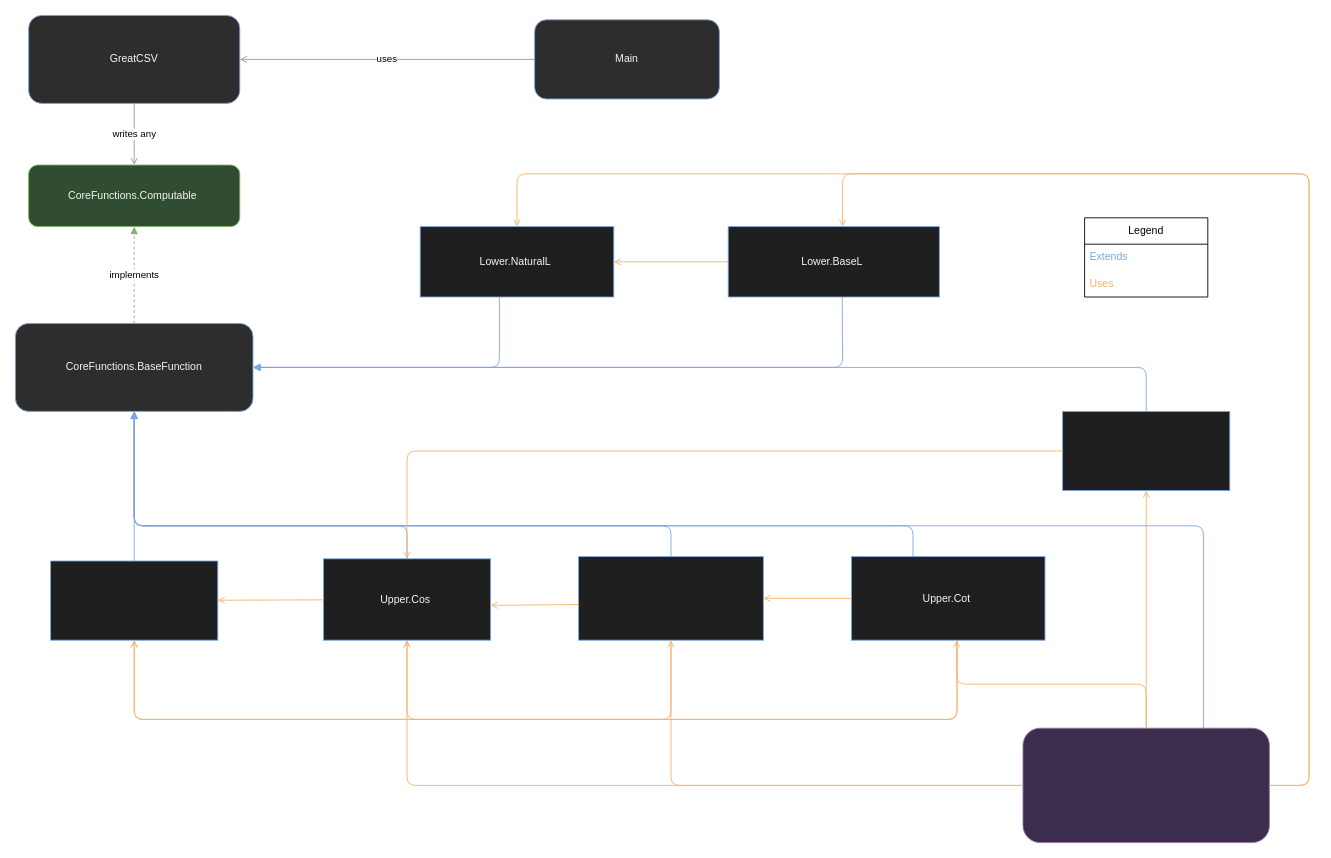
Some shapes in this 1331 by 858 pixel diagram are drawn without their labels. The box of each missing label's shape, as (x1, y1, x2, y2) in pixels:
Equation: (1022, 727, 1269, 843)
Upper.Sec: (1062, 411, 1230, 491)
Upper.Sin: (50, 560, 218, 640)
Upper.Tan: (578, 556, 763, 640)
